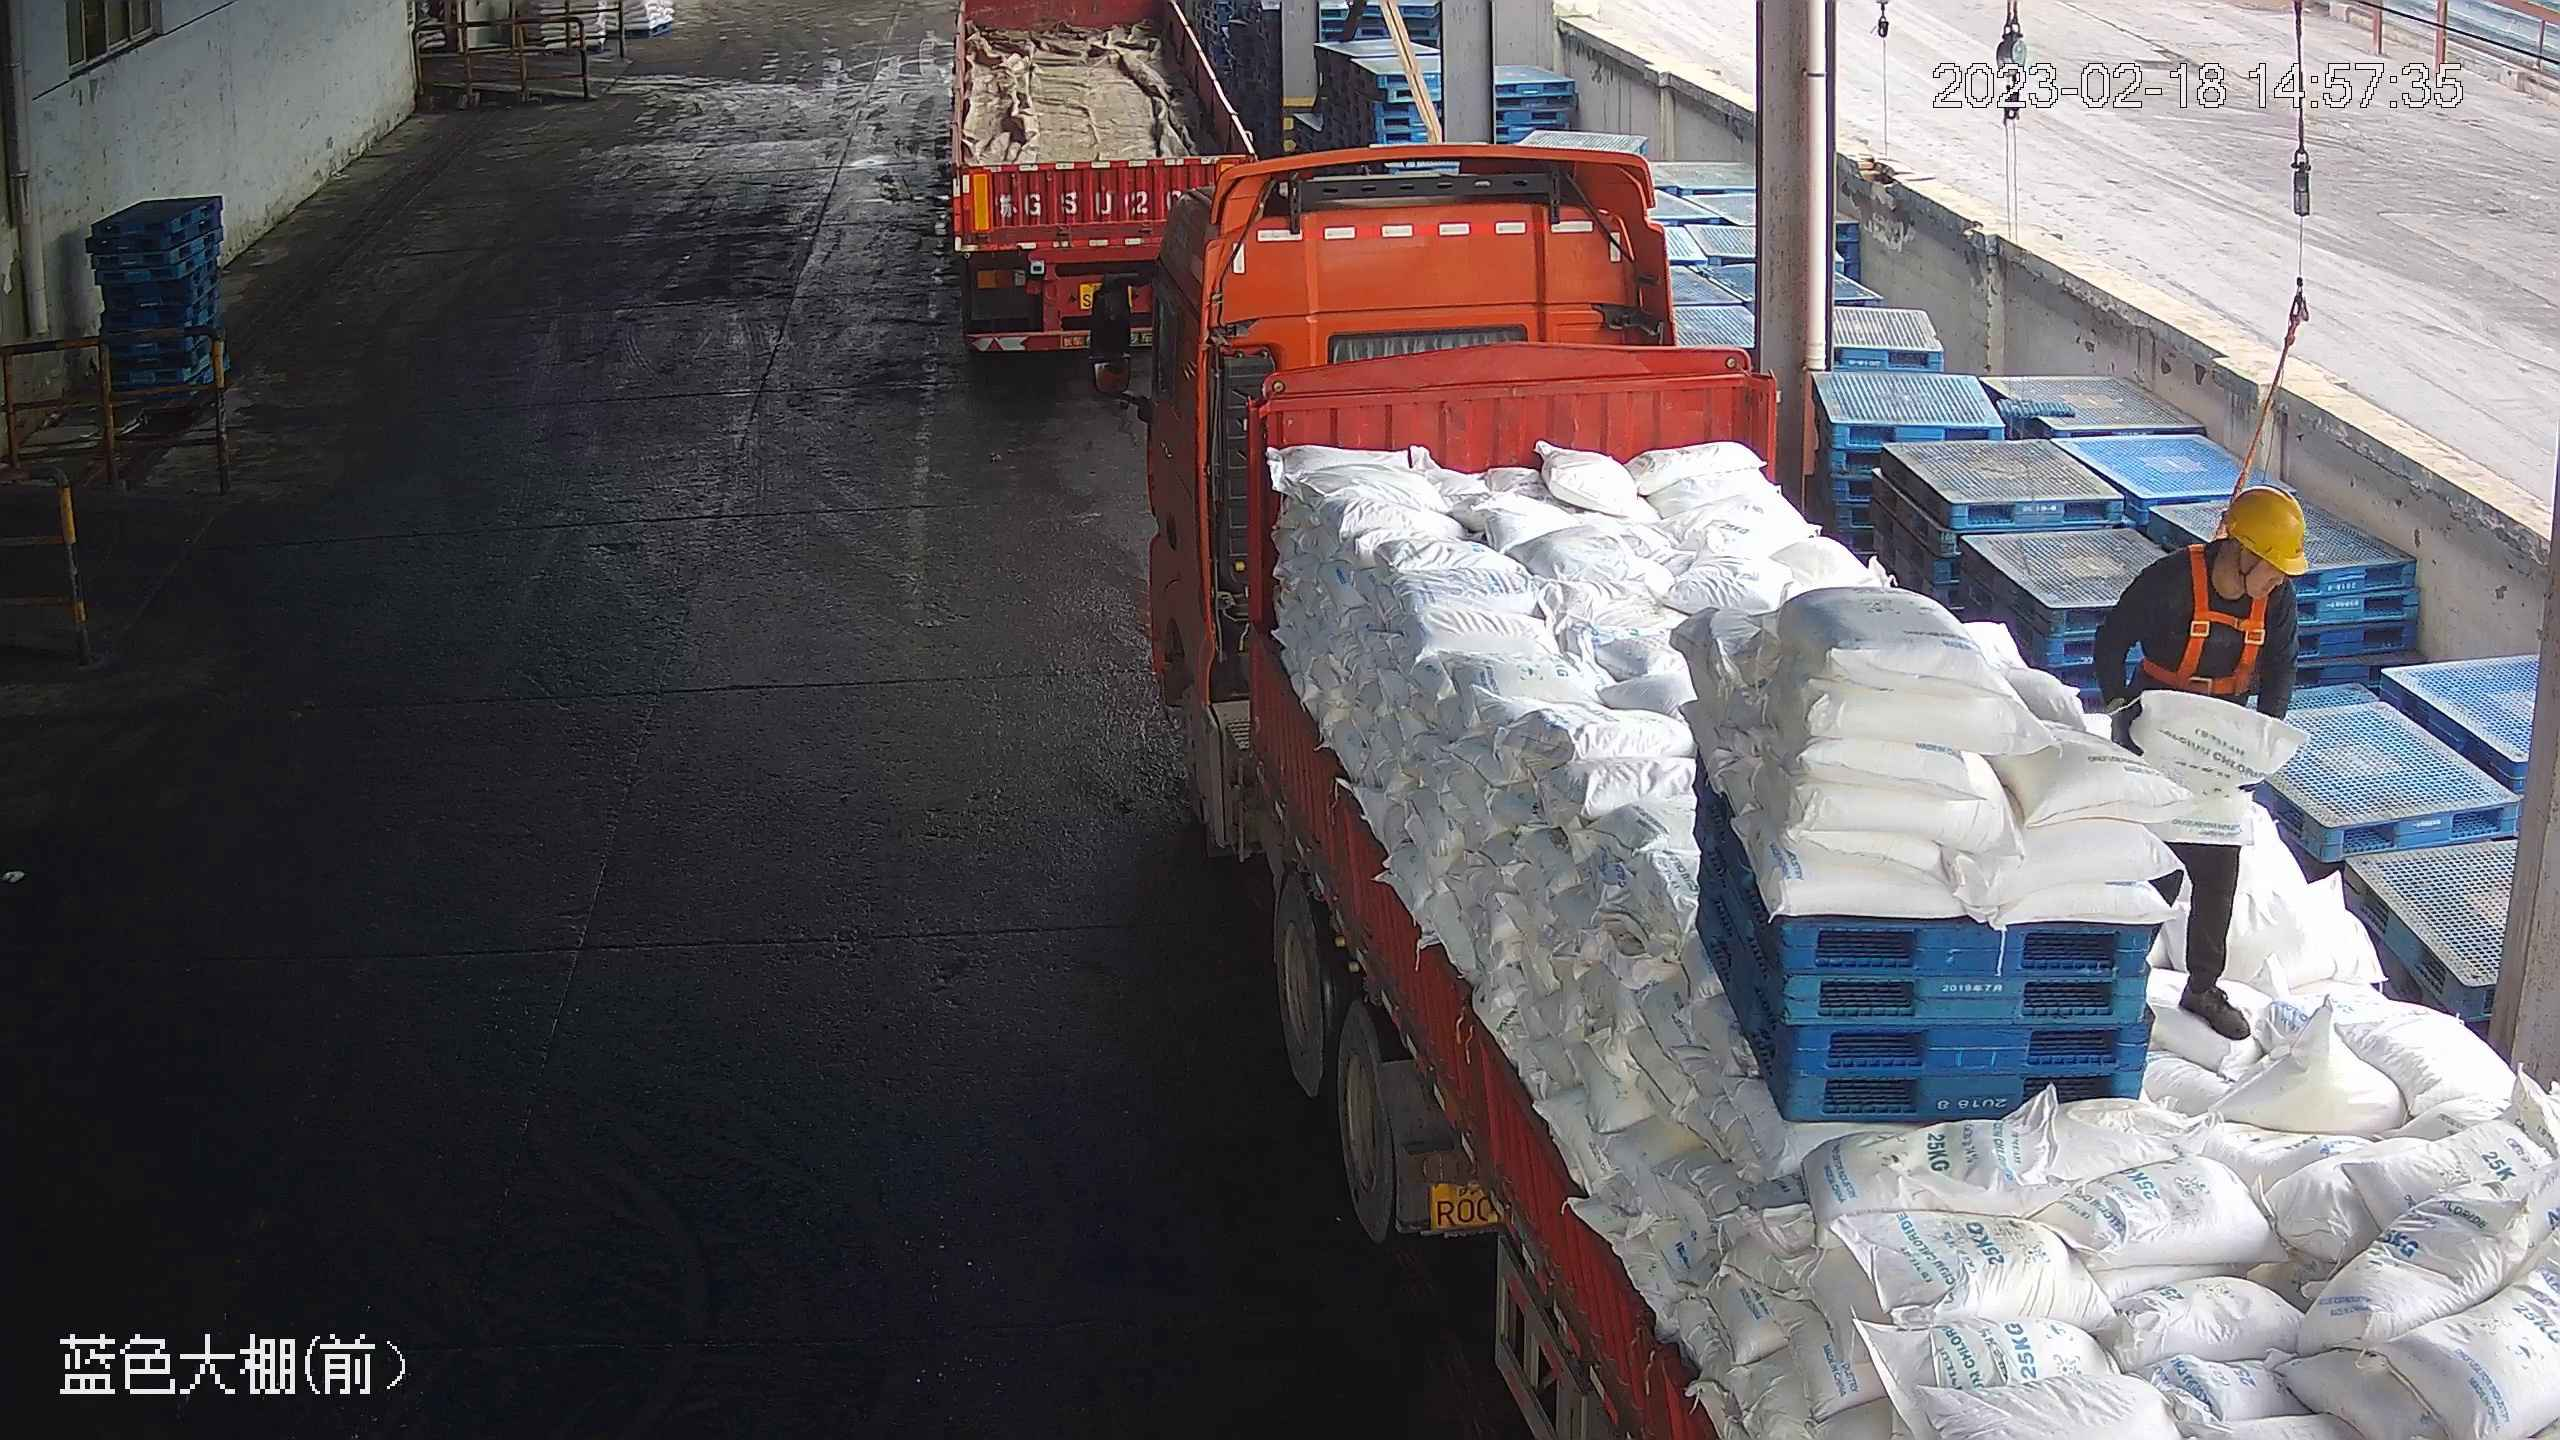belt: (2153, 548, 2271, 700)
head: (2131, 478, 2309, 633)
helmet: (2216, 480, 2311, 578)
people: (2092, 479, 2303, 1054)
truck: (1100, 153, 2558, 1437), (925, 1, 1290, 369)
